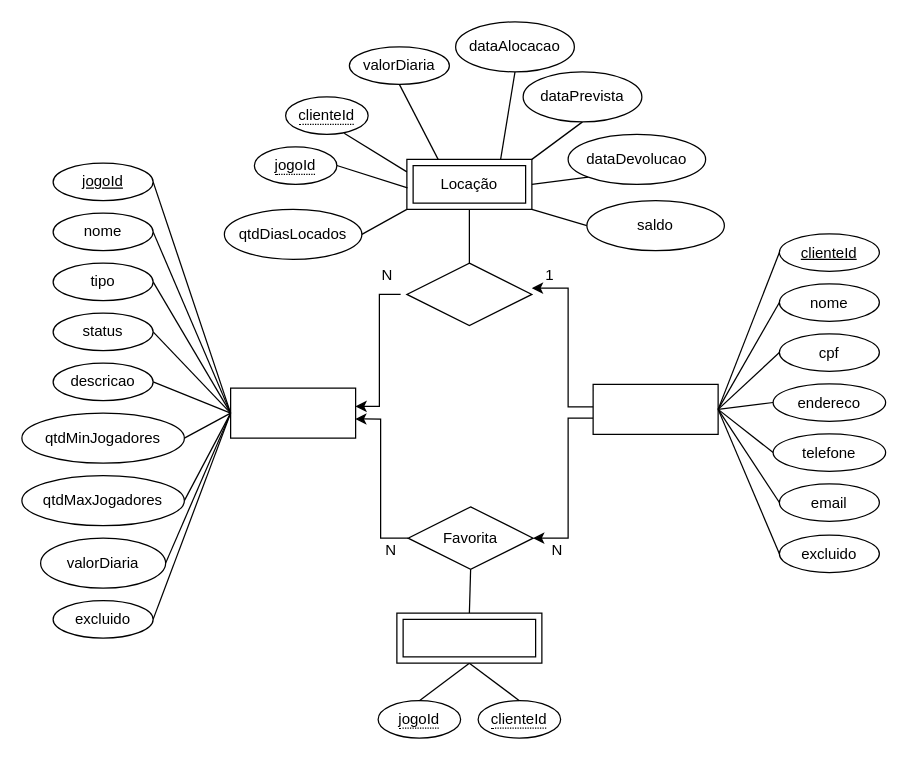
The diagram is 908 pixels wide and 760 high, and some of its shapes have lost their labels. The centre of each missing label's shape, as x and y in pixels:
"Aluga" goes at (469,294).
"Cliente" goes at (655,408).
"Jogo" goes at (292,412).
"JogosFavoritos" goes at (469,637).
